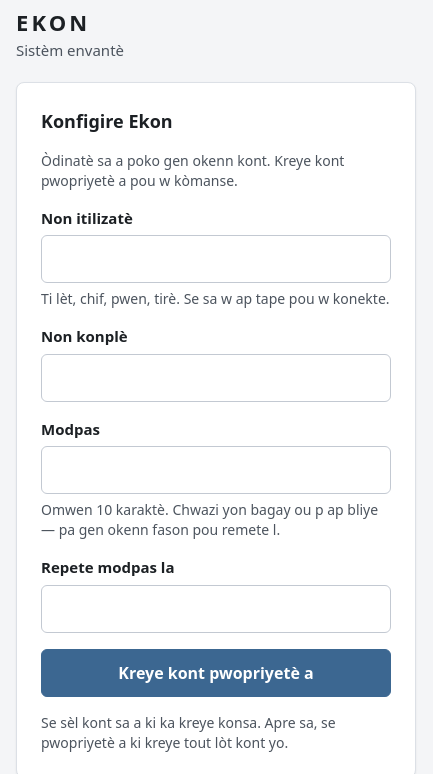
Test case: first-run setup › hands over to the login screen once the owner exists
The width and height of the screenshot is (433, 774).
Expected: the heading "Konfigire Ekon" is shown, [41,108,173,132]
In the field labelled "Non itilizatè": (216, 259) [41,235,391,283], type "marie.j"
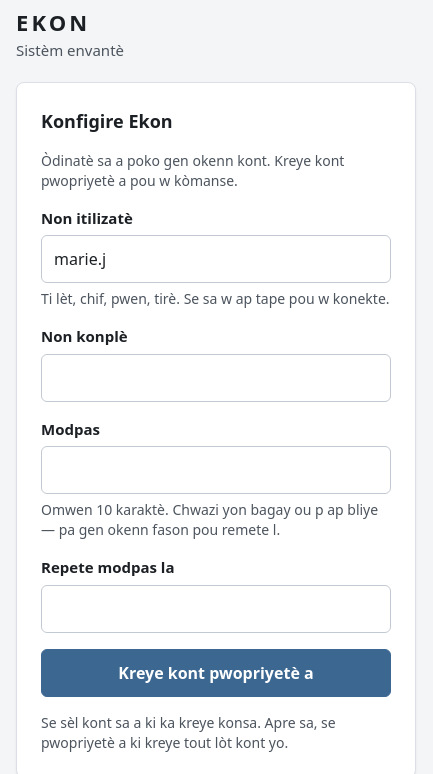
In the field labelled "Non konplè": (216, 378) [41,354,391,402], type "Marie Joseph"
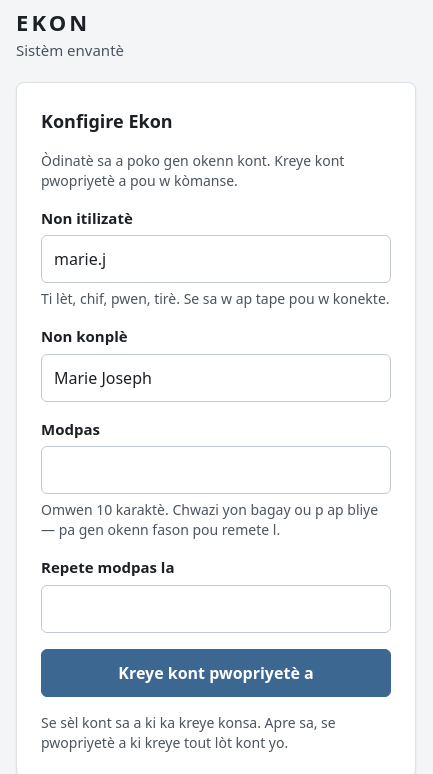
In the password field labelled "Modpas": (216, 470) [41,446,391,494], type "correct horse battery staple"
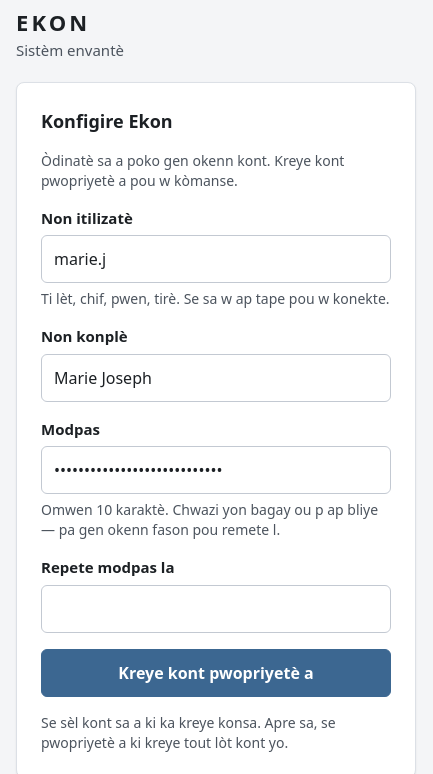
In the password field labelled "Repete modpas la": (216, 608) [41,584,391,632], type "correct horse battery staple"
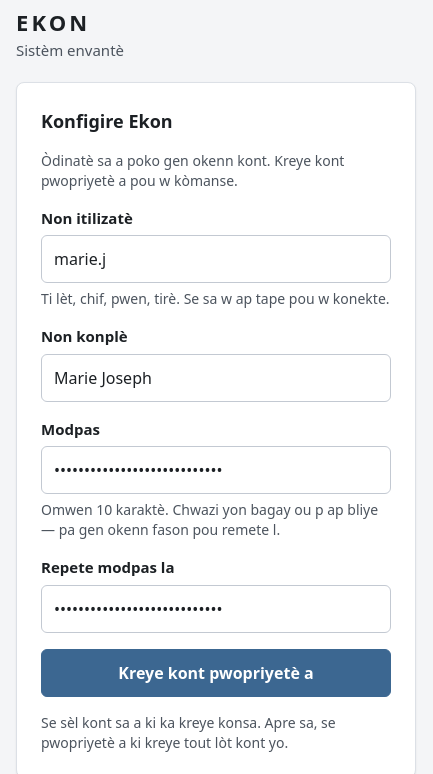
Click the button "Kreye kont pwopriyetè a": (216, 672) [41,648,391,696]
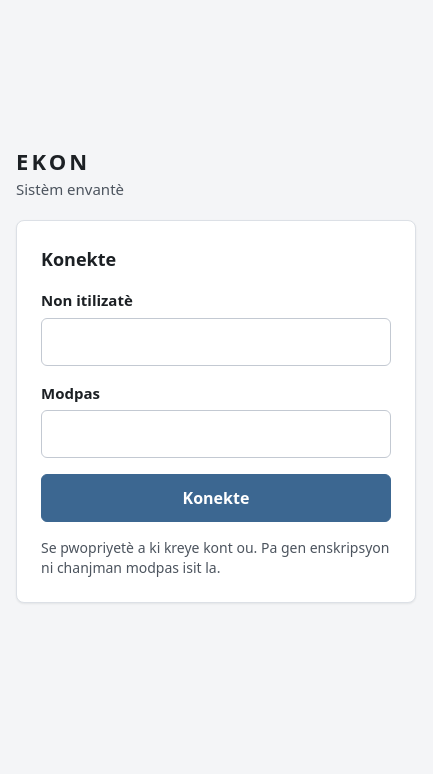
Expected: the heading "Konekte" is shown, [41,247,116,271]
